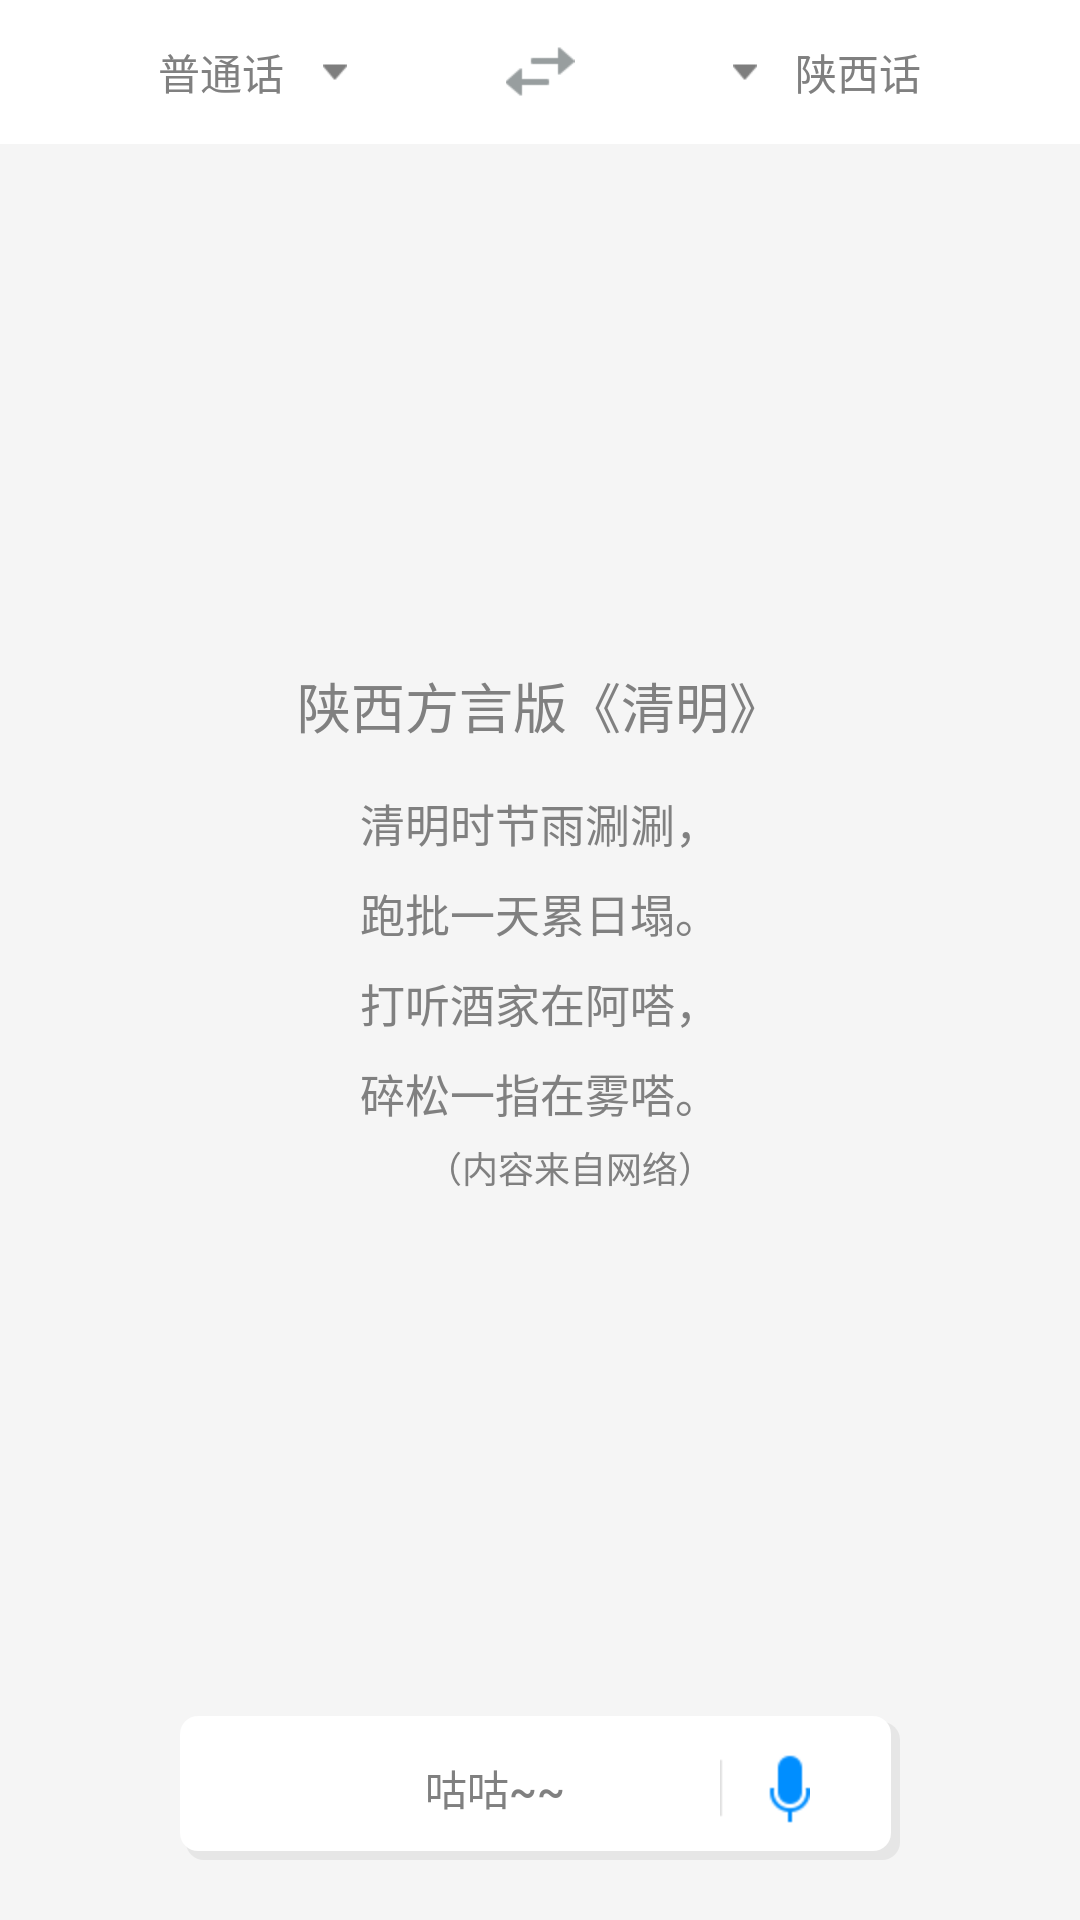

Screen size 1080 × 1920. Icon name, then its box in pixels as detection(x1, y1, x2, y2):
trans change: detection(506, 47, 575, 96)
